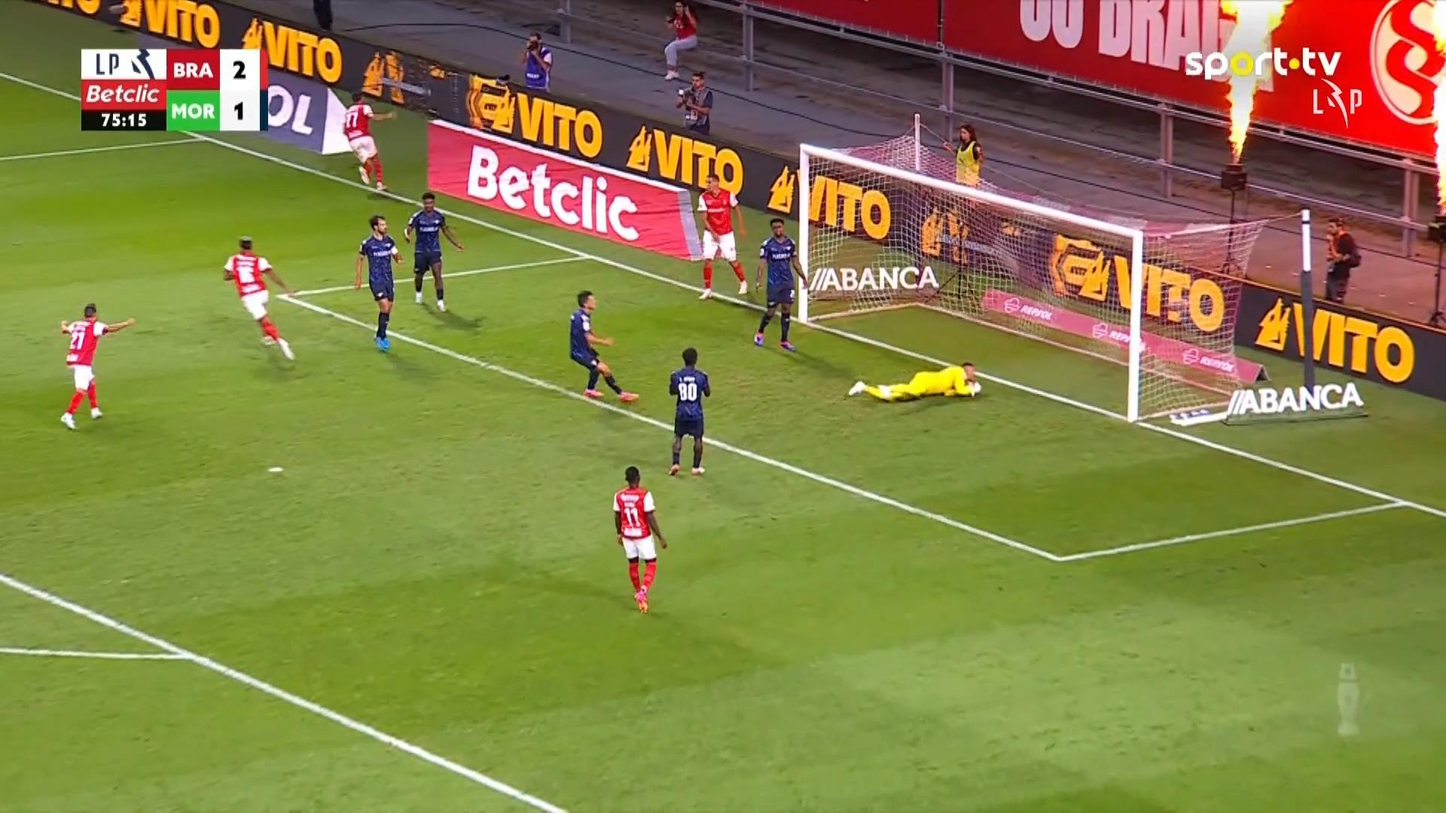ball: (966, 380, 983, 399)
goalkeeper: (847, 360, 981, 403)
player: (58, 302, 136, 430), (221, 235, 296, 361), (612, 464, 667, 613), (568, 289, 639, 402), (752, 217, 809, 352), (402, 190, 464, 312), (694, 172, 749, 300), (353, 214, 404, 352), (667, 346, 710, 475), (341, 90, 395, 192)
